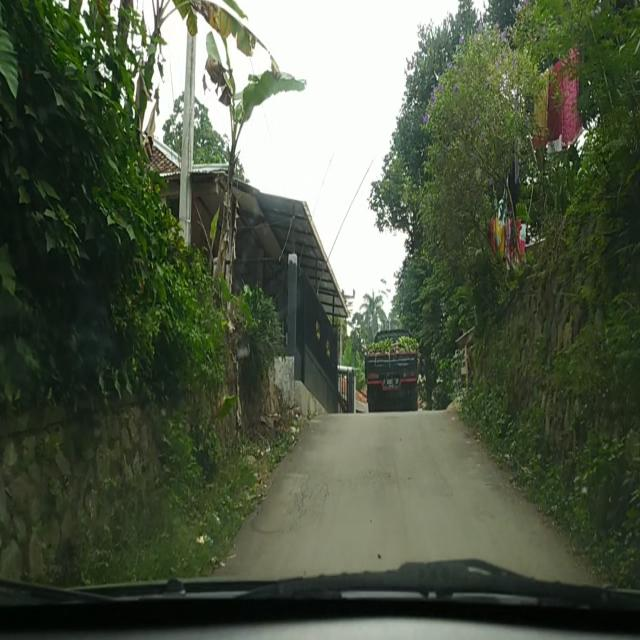Drain Hole: (281, 468, 343, 526)
